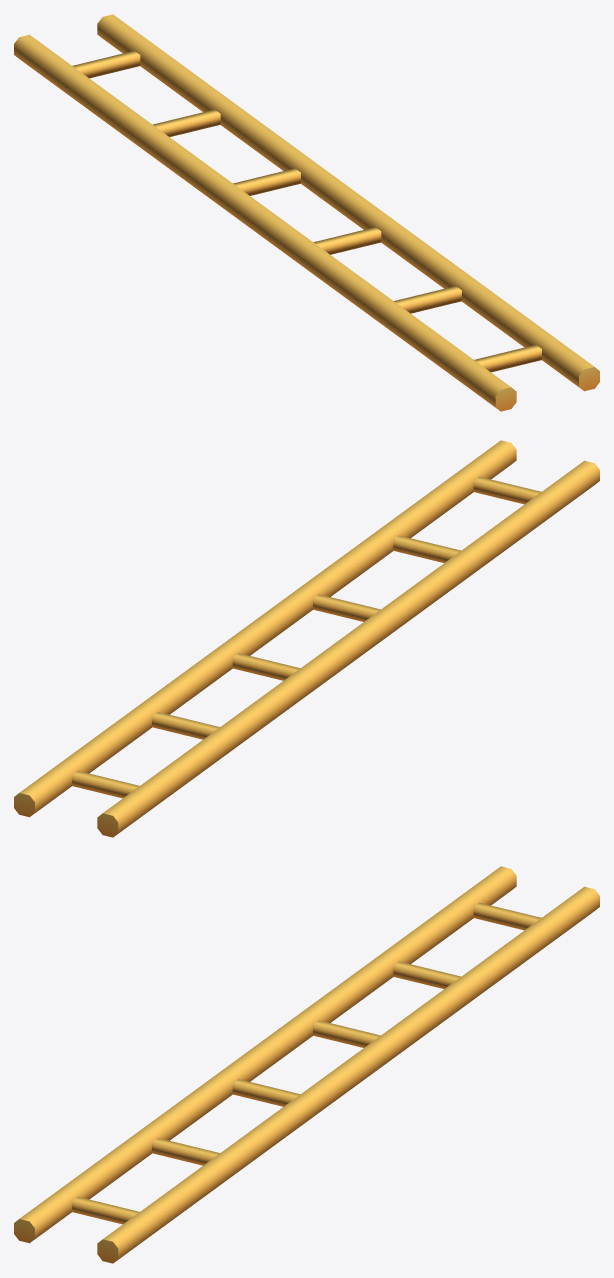
File: coaster-mouse-straight.glb
3 renders of one model, top to bottom at view 1: azimuth 30°, elevation 25°; view 2: azimuth 150°, elevation 25°; view 3: azimuth 330°, elevation 25°, orthographic.
Visible parts, largest first — view 1: coaster-mouse-straight; view 2: coaster-mouse-straight; view 3: coaster-mouse-straight.
Boxes of the visible parts, x1,y1,x2,y2 form: coaster-mouse-straight: (14,14,599,411); coaster-mouse-straight: (14,440,599,837); coaster-mouse-straight: (14,866,599,1263).
Bounding box in the file's own units: 1.5 × 0.3 × 12.
1 material, 1 textured.
